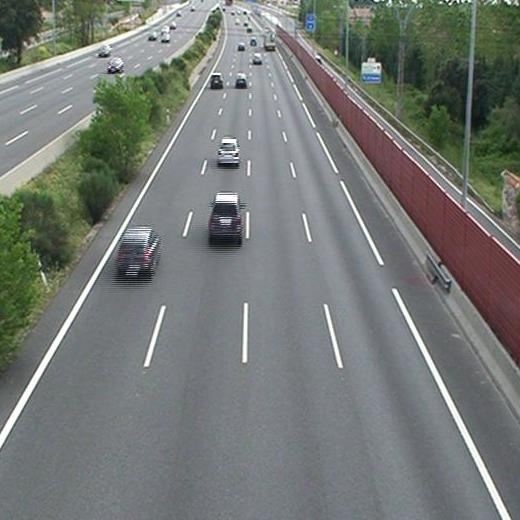car: (116, 229, 158, 269), (209, 193, 242, 235), (217, 139, 240, 162), (234, 74, 247, 86), (211, 74, 224, 86), (252, 53, 263, 62), (238, 41, 246, 52)
truck: (265, 27, 276, 50)
